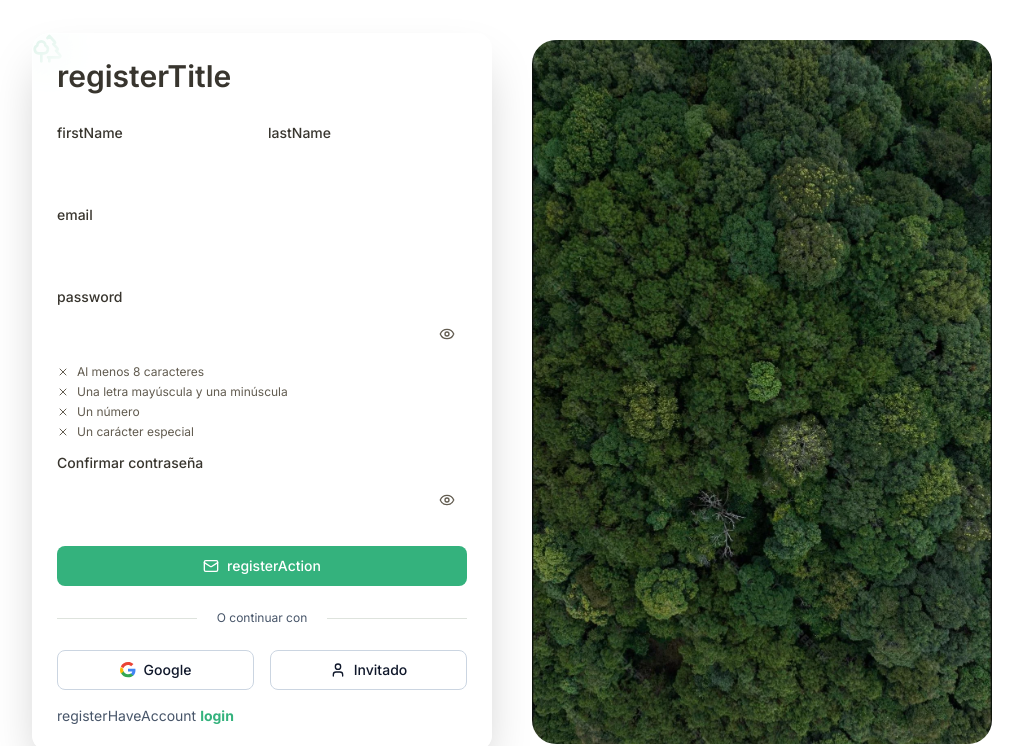
Test: RegisterPage Validation › shows validation error for empty submission
Step 1. Click the button "registerAction" → (262, 566), box x1=57 y1=546 x2=467 y2=586
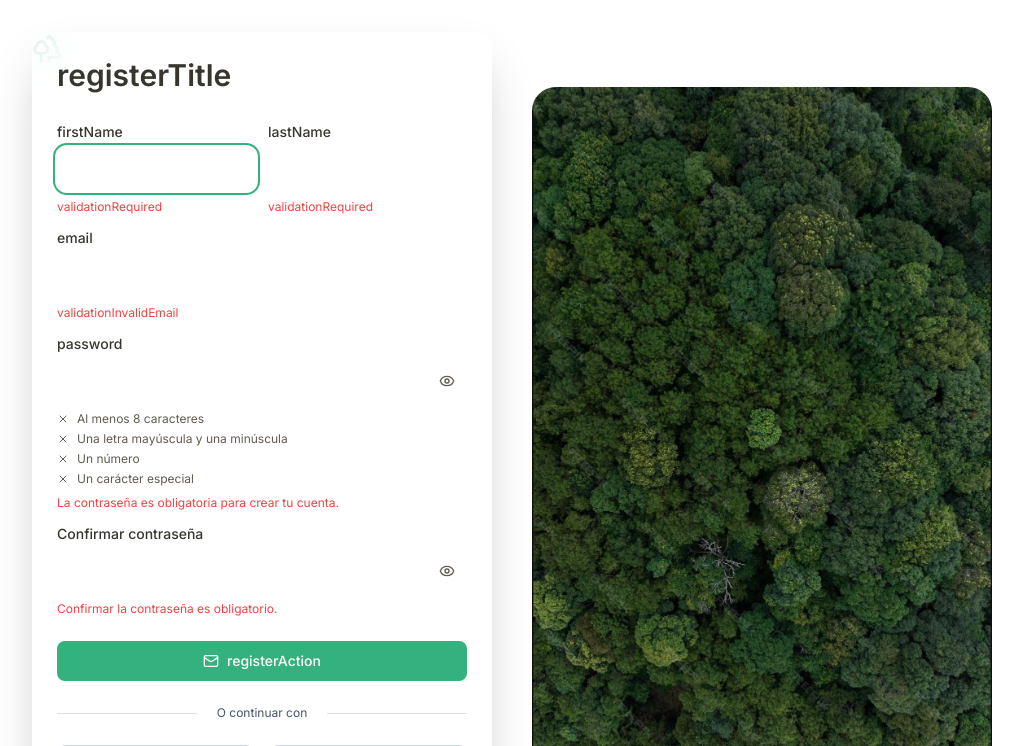
Expected: the text "validationRequired" is shown 2 times, x1=57 y1=199 x2=162 y2=214; x1=268 y1=199 x2=373 y2=214
Expected: the text "validationInvalidEmail" is shown, x1=57 y1=305 x2=178 y2=320
Expected: the text "La contraseña es obligatoria para crear tu cuenta." is shown, x1=57 y1=495 x2=339 y2=510
